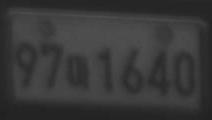0: (174, 51, 196, 97)
1: (94, 47, 118, 90)
4: (147, 50, 173, 96)
6: (121, 50, 146, 95)
7: (41, 42, 64, 90)
9: (15, 43, 38, 90)
마: (67, 52, 90, 90)
